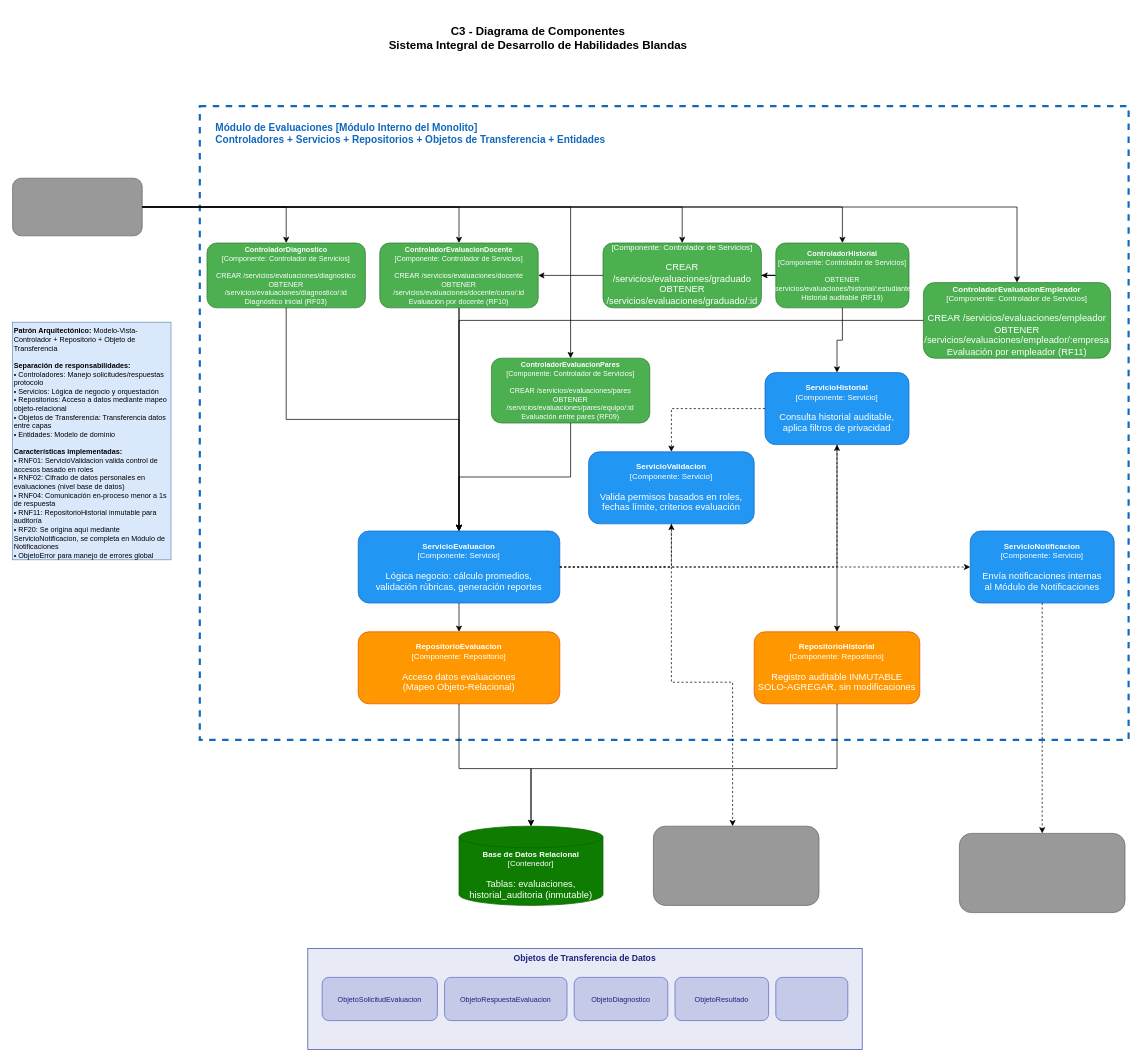
Some shapes in this 1142 by 1062 pixel diagram are drawn without their labels. Here are the shapes that lost their labels. From the top down, the centre of each, then its label:
At point 77,206: "Interfaz [Contenedor]".
At point 736,865: "Módulo Usuarios [Módulo Interno] Valida permisos basados en roles".
At point 1042,873: "Módulo Notificaciones [Módulo Interno] Envía correos/notificaciones".
At point 811,999: "ObjetoError".
